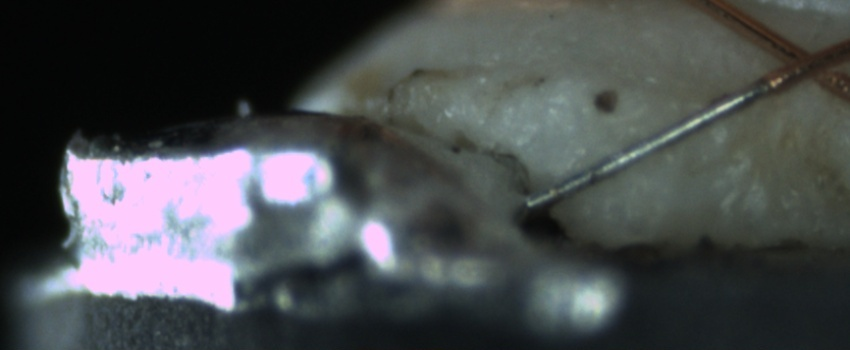CL: (757, 28, 844, 93)
TS: (529, 84, 769, 210)
